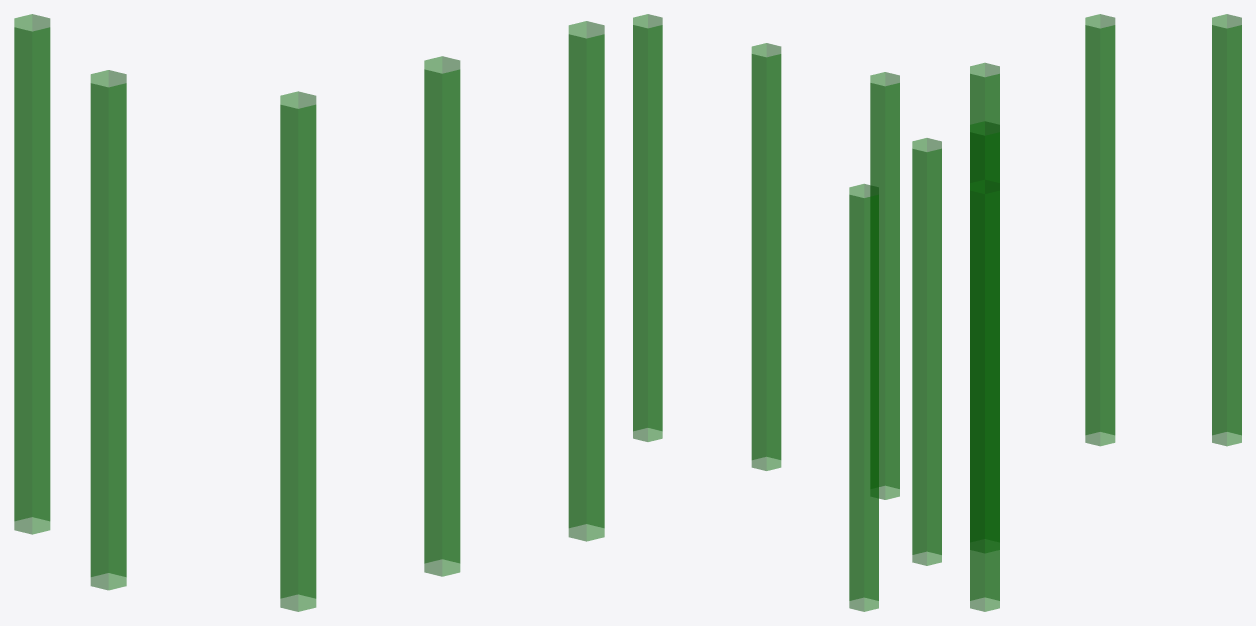
The model's file is D09_pillar01.obj.
The picture shows the model from 3 angles, left to right: view 1: azimuth 30°, elevation 25°; view 2: azimuth 150°, elevation 25°; view 3: azimuth 270°, elevation 25°; orthographic projection. The views are drawn at different scales.
Size of the model in its own units: 37 by 40 by 23.6.
